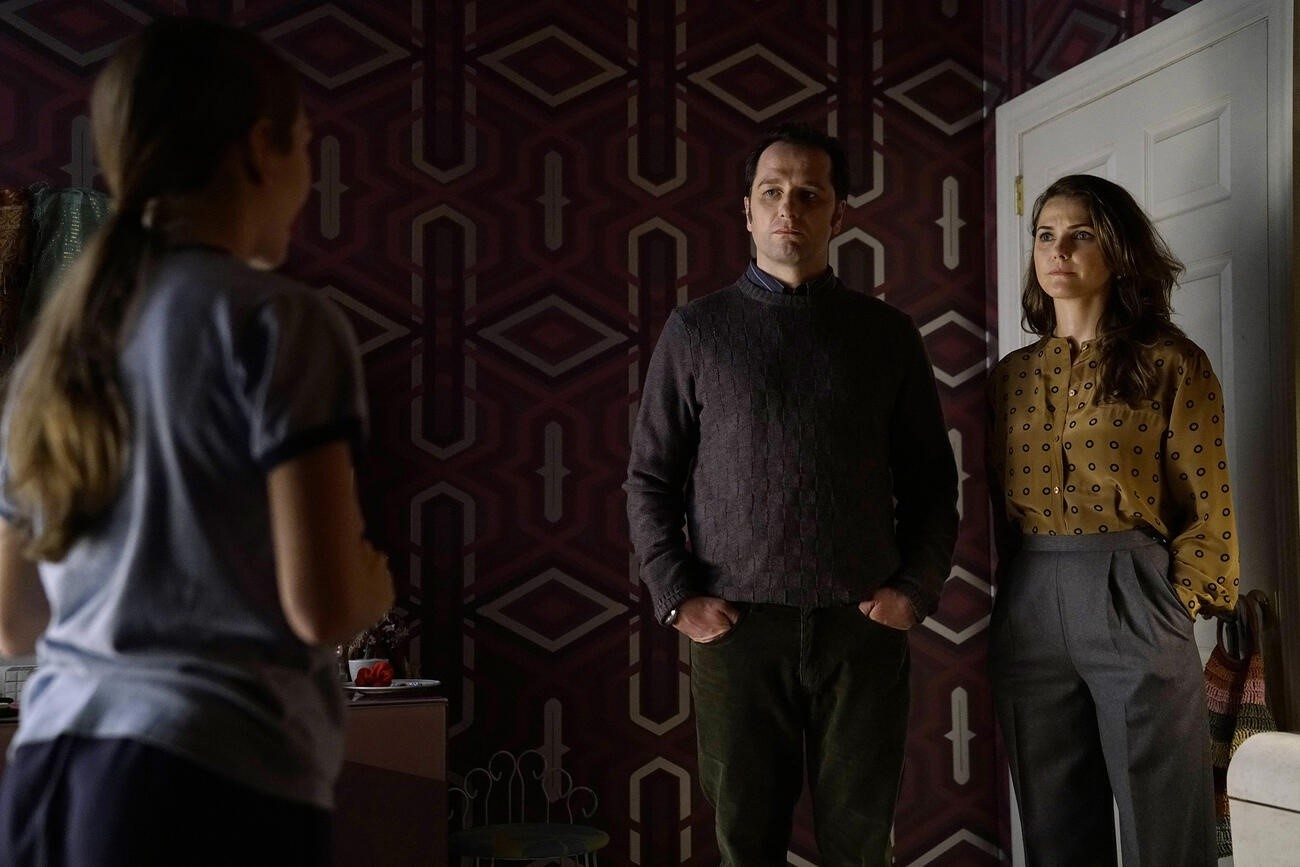face_no_mask: (1021, 172, 1153, 304), (745, 130, 851, 267)
